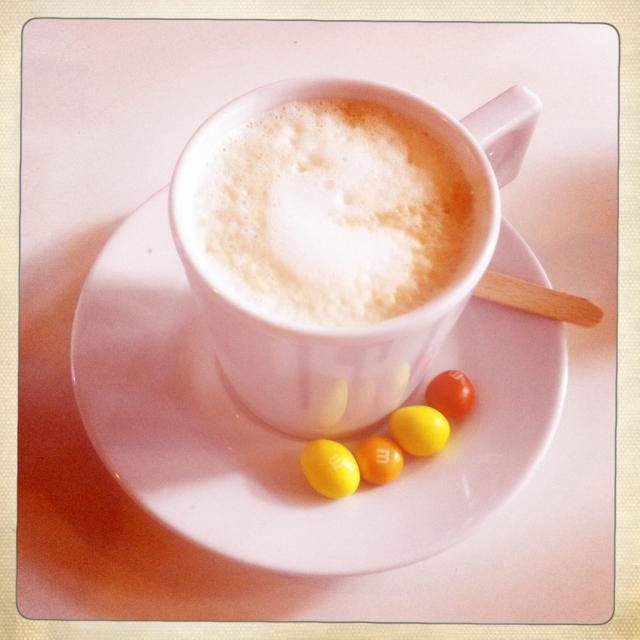Coffee: (191, 92, 477, 326)
